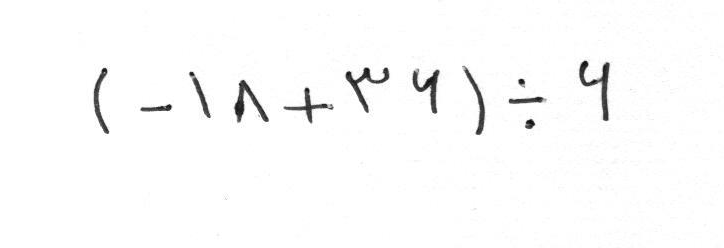character: (346, 67, 392, 116), (509, 78, 549, 131), (282, 87, 335, 126), (579, 60, 611, 124), (462, 65, 485, 138), (234, 80, 269, 127), (93, 68, 111, 136), (413, 68, 439, 115), (189, 71, 213, 119), (140, 104, 176, 117)
